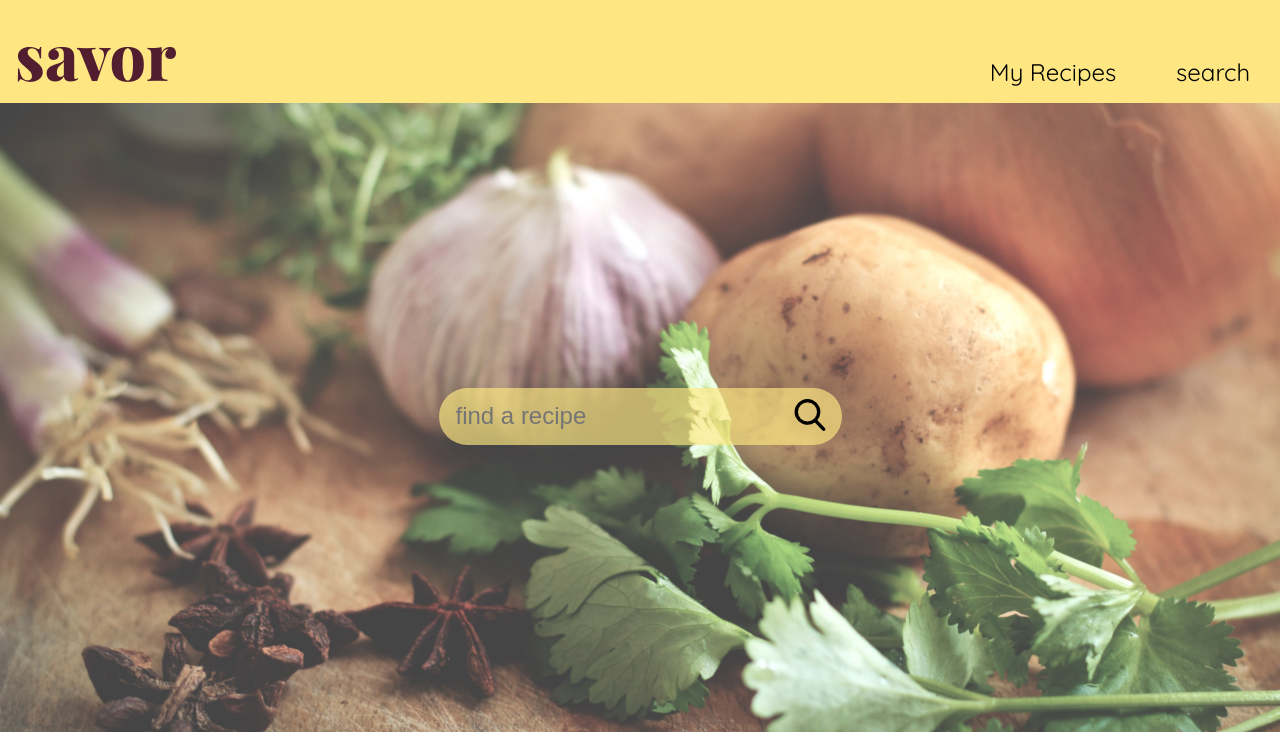
Test: Recipe search user flows › As a user, I should be able to type a search query into the searchbar, and see a list of matches
The image size is (1280, 732).
Type "carrot limeade" into the field with class "search-bar".
click(609, 416); type("carrot limeade")  # box [439, 391, 778, 441]
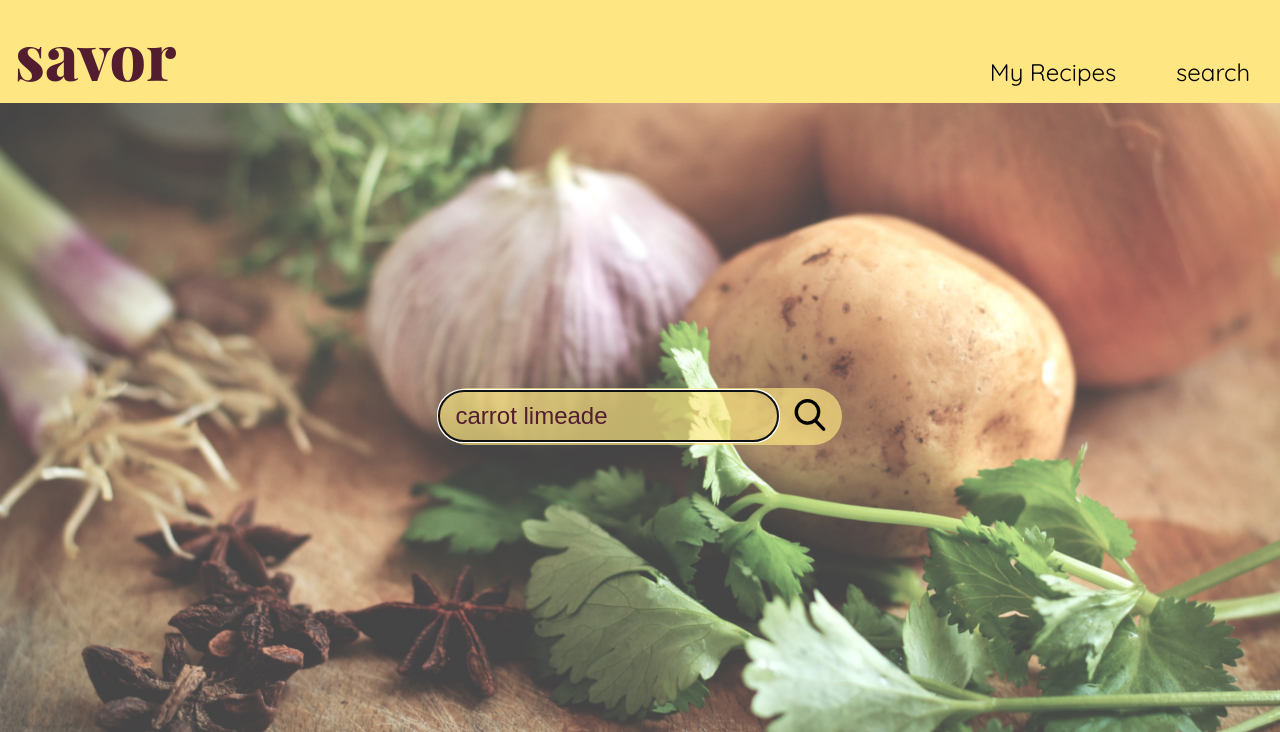
Click the button with class "submit-btn".
click(810, 417)  # box [788, 398, 832, 435]
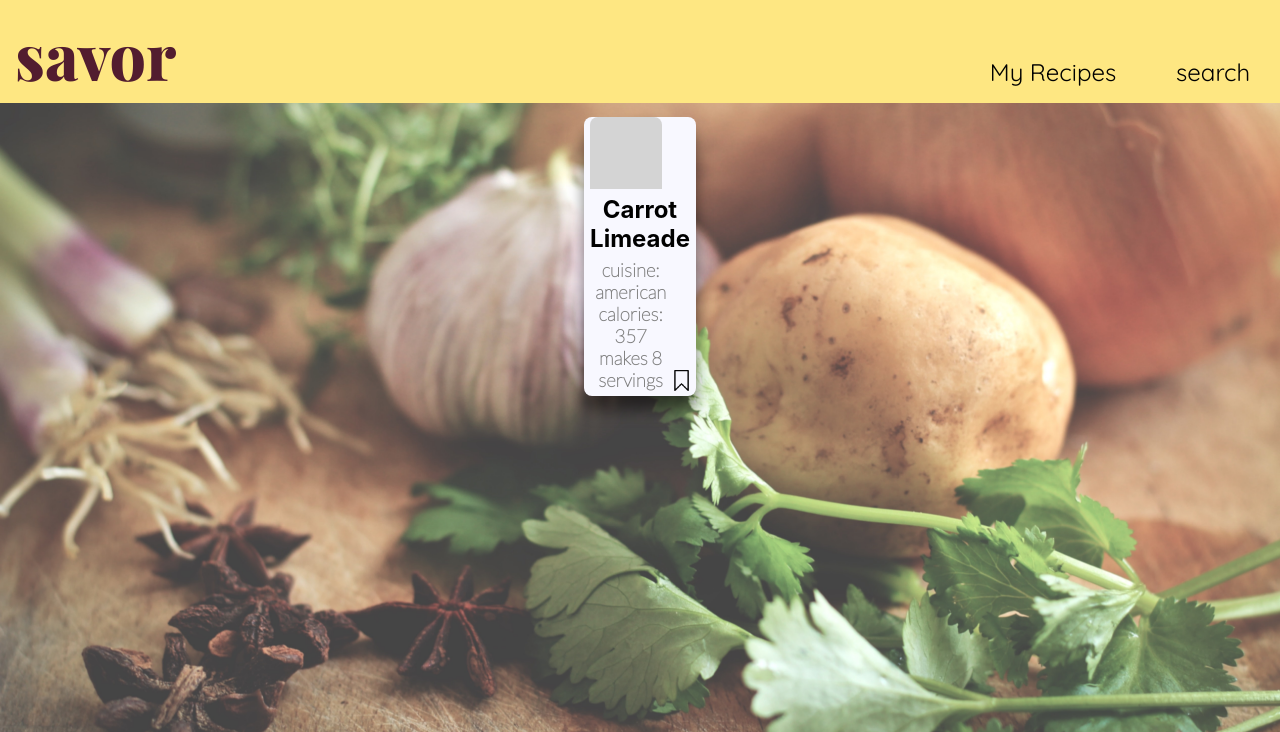
Expected: the picture with class "favorite-toggle" is shown, [671, 370, 692, 391]
